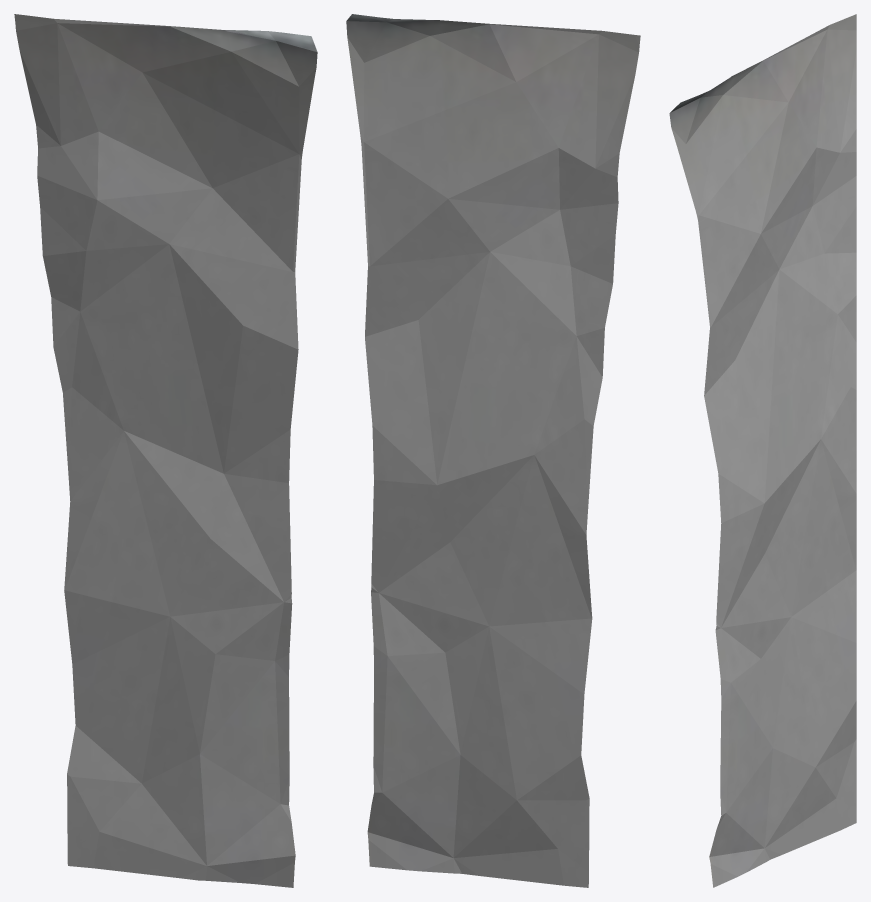
3 views of the same model, side by side, from view 1: azimuth 30°, elevation 25°; view 2: azimuth 210°, elevation 25°; view 3: azimuth 270°, elevation 25° (orthographic). The views are drawn at different scales.
Bounding box in the file's own units: 0.2028 × 0.8374 × 0.1808.
Materials: 1 (1 with a texture image).
